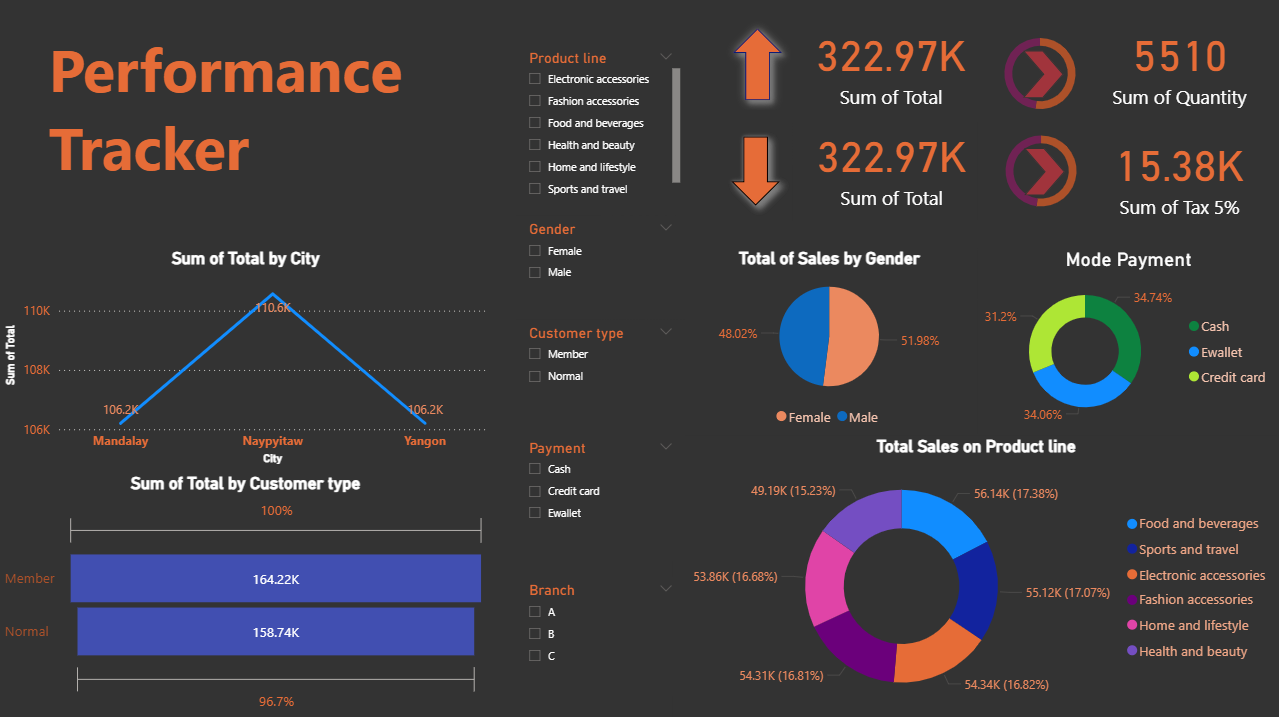

The dashboard page shown, as its layout file describes it:
{"tool":"powerbi","page":{"name":"Page 1","canvas":[1280,720],"ordinal":0},"visuals":[{"type":"card","fields":{"Values":["Sum(D6.Total)"]},"box":[792.5,112.5,198.8,110],"z":0},{"type":"card","fields":{"Values":["Sum(D6.Tax 5%)"]},"box":[1079.8,124.3,199.1,105],"z":1000},{"type":"card","fields":{"Values":["Sum(D6.Total)"]},"box":[791.2,8.8,200,115],"z":2000},{"type":"card","fields":{"Values":["Sum(D6.Quantity)"]},"box":[1079.8,8.4,199.1,115.8],"z":3000},{"type":"donutChart","title":"Mode Payment","fields":{"Category":["D6.Payment"],"Y":["Sum(D6.Total)"]},"box":[977.5,250,302.5,186.2],"z":4000},{"type":"donutChart","title":"Total Sales on Product line","fields":{"Category":["D6.Product line"],"Y":["Sum(D6.Total)"]},"box":[672.5,437.5,607.5,282.5],"z":5000},{"type":"pieChart","title":"Total of Sales by Gender","fields":{"Category":["D6.Gender"],"Y":["Sum(D6.Total)"]},"box":[693.8,250,271.2,187.5],"z":6000},{"type":"funnel","fields":{"Category":["D6.Customer type"],"Y":["Sum(D6.Total)"]},"box":[0,475,491.2,245],"z":7000},{"type":"lineChart","fields":{"Category":["D6.City","D6.Gender"],"Y":["Sum(D6.Total)"]},"box":[0,250,491.2,221.2],"z":8000},{"type":"shape","box":[723.8,21.2,67.5,90],"z":9000},{"type":"shape","box":[720,127.5,71.2,91.2],"z":10000},{"type":"donutChart","fields":{"Category":["D6.Gender"],"Y":["Sum(D6.Total)"]},"box":[977.2,26.5,127.9,98.9],"z":11000},{"type":"shape","box":[1022.5,52.5,41.2,47.5],"z":12000},{"type":"donutChart","fields":{"Category":["D6.Gender"],"Y":["Sum(D6.Total)"]},"box":[977.5,123.8,127.5,98.8],"z":13000},{"type":"shape","box":[1023.8,150,41.2,47.5],"z":14000},{"type":"textbox","box":[43.8,26.2,463.8,171.2],"z":14001},{"type":"slicer","fields":{"Values":["D6.Product line"]},"box":[516.2,46.2,168.8,155],"z":14002},{"type":"slicer","fields":{"Values":["D6.Customer type"]},"box":[516.2,321.2,168.8,98.8],"z":14003},{"type":"slicer","fields":{"Values":["D6.Payment"]},"box":[516.2,436.2,168.8,126.2],"z":14004},{"type":"slicer","fields":{"Values":["D6.Branch"]},"box":[516.2,578.8,168.8,118.8],"z":14005},{"type":"slicer","fields":{"Values":["D6.Gender"]},"box":[516.2,217.5,168.8,103.8],"z":14006}]}

Visuals, with their boxes in screenshot pixels (x1, y1, x2, y2), scaled from the page's 1280x720 canvas onto the 1279x717 screenshot:
card - Sum(D6.Total): region(792, 112, 991, 222)
card - Sum(D6.Tax 5%): region(1079, 124, 1278, 228)
card - Sum(D6.Total): region(791, 9, 990, 123)
card - Sum(D6.Quantity): region(1079, 8, 1278, 124)
"Mode Payment" donutChart: region(977, 249, 1278, 434)
"Total Sales on Product line" donutChart: region(672, 436, 1278, 716)
"Total of Sales by Gender" pieChart: region(693, 249, 964, 436)
funnel - D6.Customer type x Sum(D6.Total): region(0, 473, 491, 716)
lineChart - D6.City x D6.Gender: region(0, 249, 491, 469)
shape: region(723, 21, 791, 111)
shape: region(719, 127, 791, 218)
donutChart - D6.Gender x Sum(D6.Total): region(976, 26, 1104, 125)
shape: region(1022, 52, 1063, 100)
donutChart - D6.Gender x Sum(D6.Total): region(977, 123, 1104, 222)
shape: region(1023, 149, 1064, 197)
textbox: region(44, 26, 507, 197)
slicer - D6.Product line: region(516, 46, 684, 200)
slicer - D6.Customer type: region(516, 320, 684, 418)
slicer - D6.Payment: region(516, 434, 684, 560)
slicer - D6.Branch: region(516, 576, 684, 695)
slicer - D6.Gender: region(516, 217, 684, 320)
